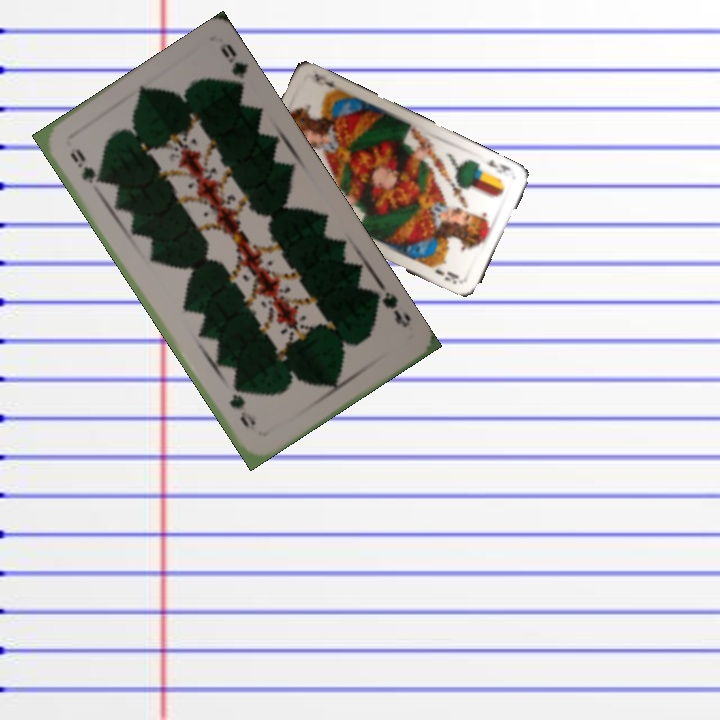EK: (484, 155, 514, 176)
G9: (369, 287, 414, 331), (66, 144, 105, 189)
